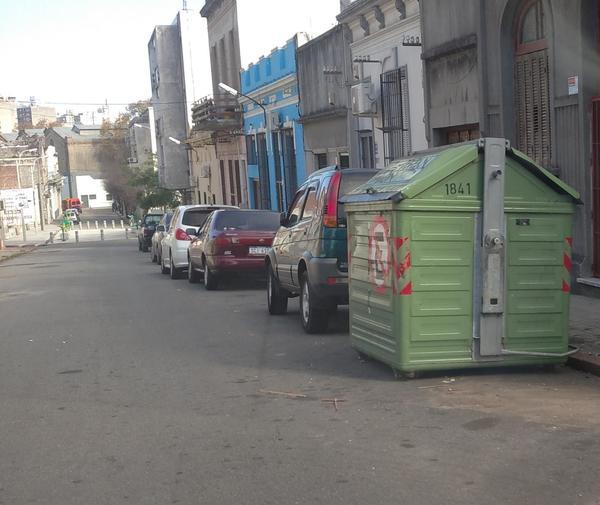Trash: (341, 138, 581, 377)
